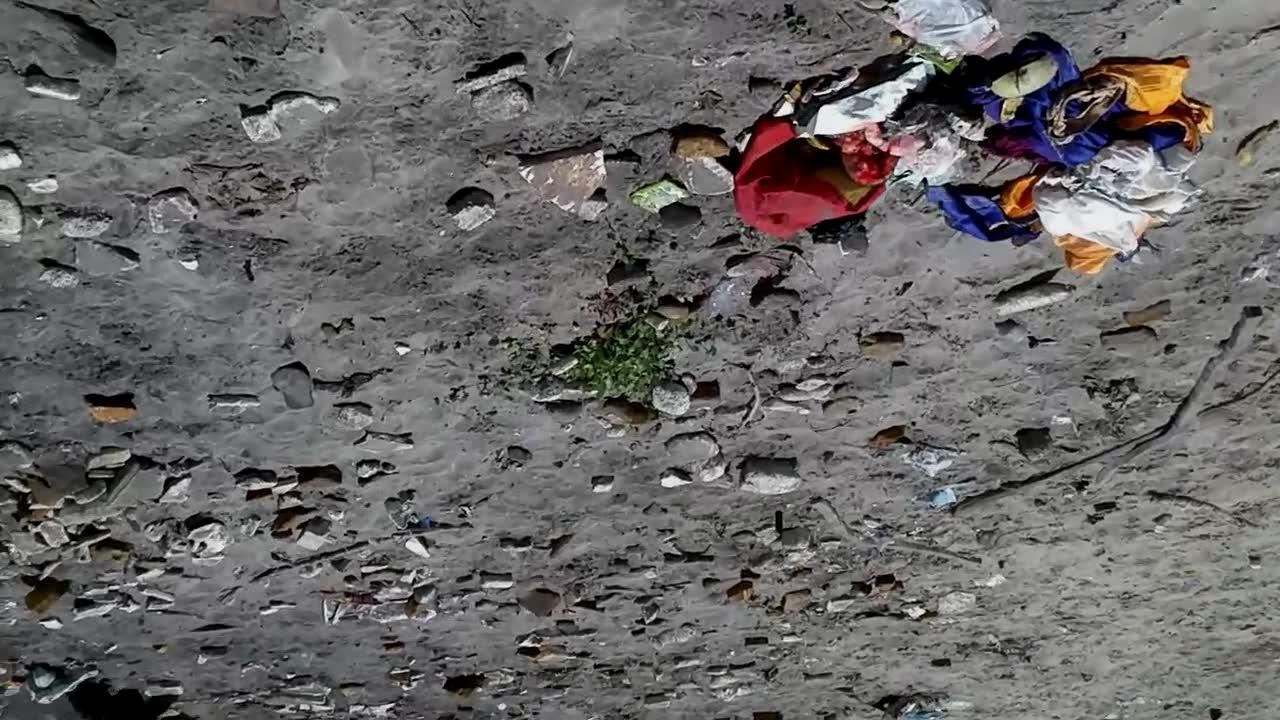large collection of objects: (8, 12, 106, 83), (520, 138, 610, 208), (736, 452, 807, 500)
obj: (734, 47, 1212, 254), (1130, 307, 1276, 465), (556, 286, 672, 399), (873, 1, 1000, 57), (20, 662, 103, 706), (22, 568, 74, 613), (270, 364, 314, 412), (188, 520, 236, 556), (85, 394, 138, 424)
